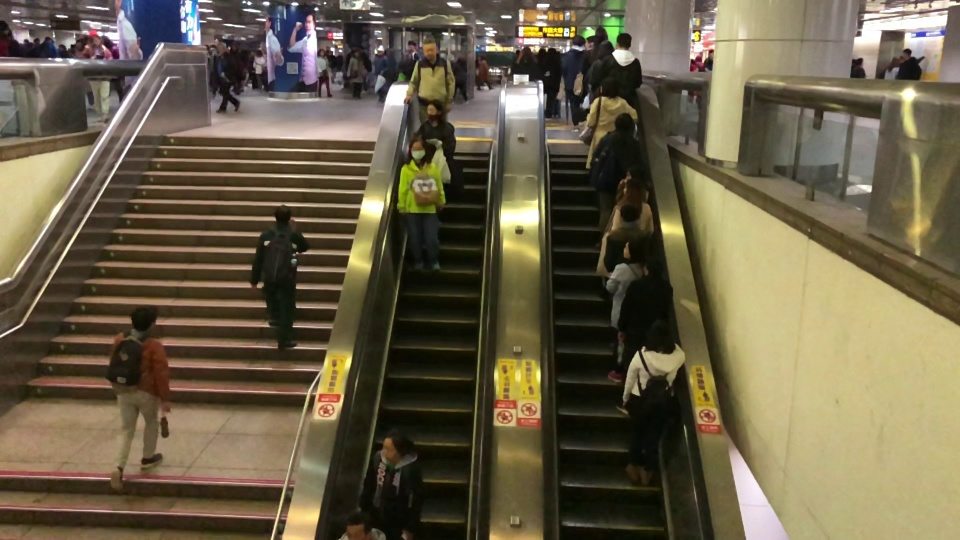person_head: (381, 428, 411, 461), (345, 510, 374, 540), (645, 318, 673, 349), (129, 305, 158, 334), (622, 239, 644, 264), (622, 178, 646, 200), (614, 111, 635, 135), (643, 257, 665, 279), (409, 136, 427, 161), (425, 98, 444, 121), (599, 76, 618, 98), (619, 204, 640, 223), (625, 165, 646, 183), (273, 205, 292, 224), (423, 37, 438, 61), (614, 31, 632, 50), (597, 39, 614, 59), (87, 28, 101, 47), (584, 35, 598, 52), (571, 34, 585, 48), (0, 20, 9, 40), (520, 46, 532, 59), (900, 48, 912, 61), (102, 34, 112, 49), (535, 47, 547, 59), (889, 55, 901, 67), (219, 43, 230, 54), (852, 57, 863, 68), (375, 44, 385, 56), (546, 47, 557, 57), (75, 39, 84, 51), (407, 40, 416, 50), (351, 48, 359, 58), (707, 49, 714, 60), (43, 35, 51, 44), (455, 54, 463, 63), (317, 48, 324, 57), (695, 54, 702, 63), (33, 37, 40, 45), (59, 43, 66, 51), (256, 50, 263, 58), (231, 45, 238, 53), (479, 54, 486, 61), (22, 37, 28, 45), (514, 49, 520, 56), (689, 58, 695, 65), (359, 45, 364, 52), (337, 48, 342, 55), (328, 50, 333, 56)
person_vbox: (108, 305, 171, 492), (620, 318, 686, 486), (614, 257, 674, 415), (248, 205, 311, 349), (358, 428, 426, 540), (590, 111, 642, 249), (396, 136, 446, 272), (605, 239, 648, 382), (584, 76, 639, 170), (403, 37, 456, 125), (589, 31, 643, 107), (75, 29, 113, 126), (602, 204, 654, 273), (412, 98, 456, 171), (602, 178, 654, 239), (563, 34, 592, 133), (213, 43, 241, 115), (580, 39, 614, 96), (333, 509, 386, 540), (70, 39, 94, 105), (541, 47, 562, 120), (102, 34, 123, 104), (345, 47, 367, 101), (615, 165, 646, 203), (510, 46, 541, 80), (372, 44, 389, 104), (450, 54, 469, 105), (0, 19, 25, 57), (894, 48, 922, 80), (316, 48, 332, 99), (580, 35, 598, 75), (404, 40, 421, 80), (476, 54, 493, 91), (694, 54, 704, 107), (252, 50, 265, 89), (231, 45, 241, 95), (883, 55, 902, 80), (38, 35, 57, 58), (688, 58, 697, 104), (359, 45, 367, 93), (849, 57, 867, 78), (335, 48, 343, 86), (328, 51, 336, 84), (703, 49, 714, 72), (28, 37, 40, 57), (57, 43, 70, 58), (512, 48, 521, 65)
